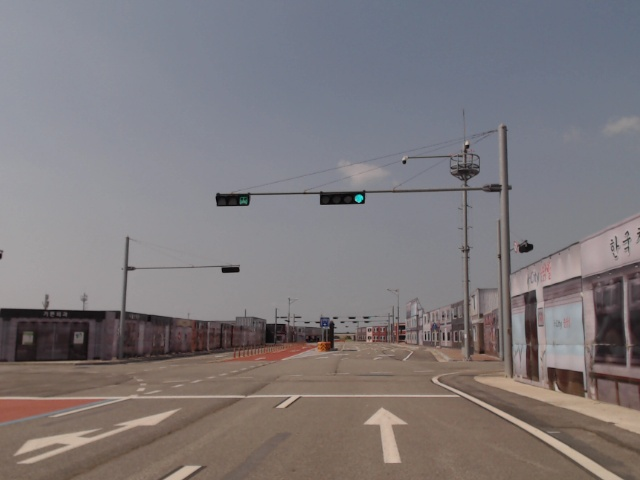straight_green_4: (320, 190, 367, 205)
